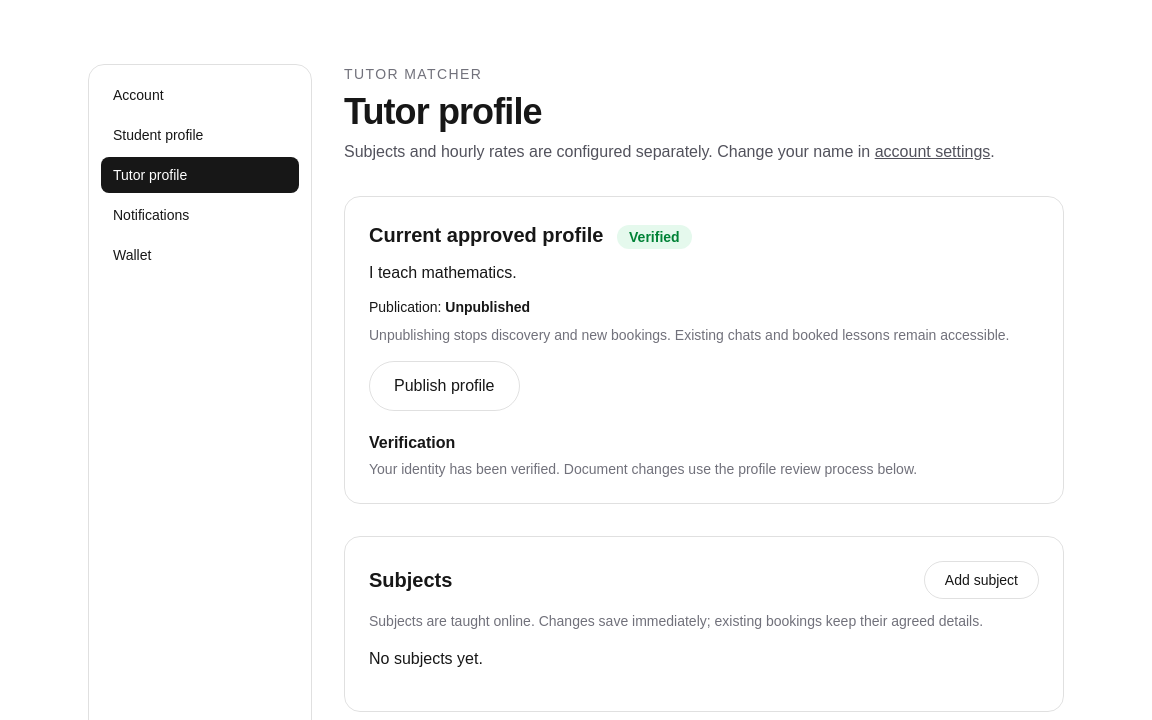
Test case: allows publishing independently of a pending review
Click the button "Publish profile". click: click(444, 386)
box: [369, 361, 520, 411]
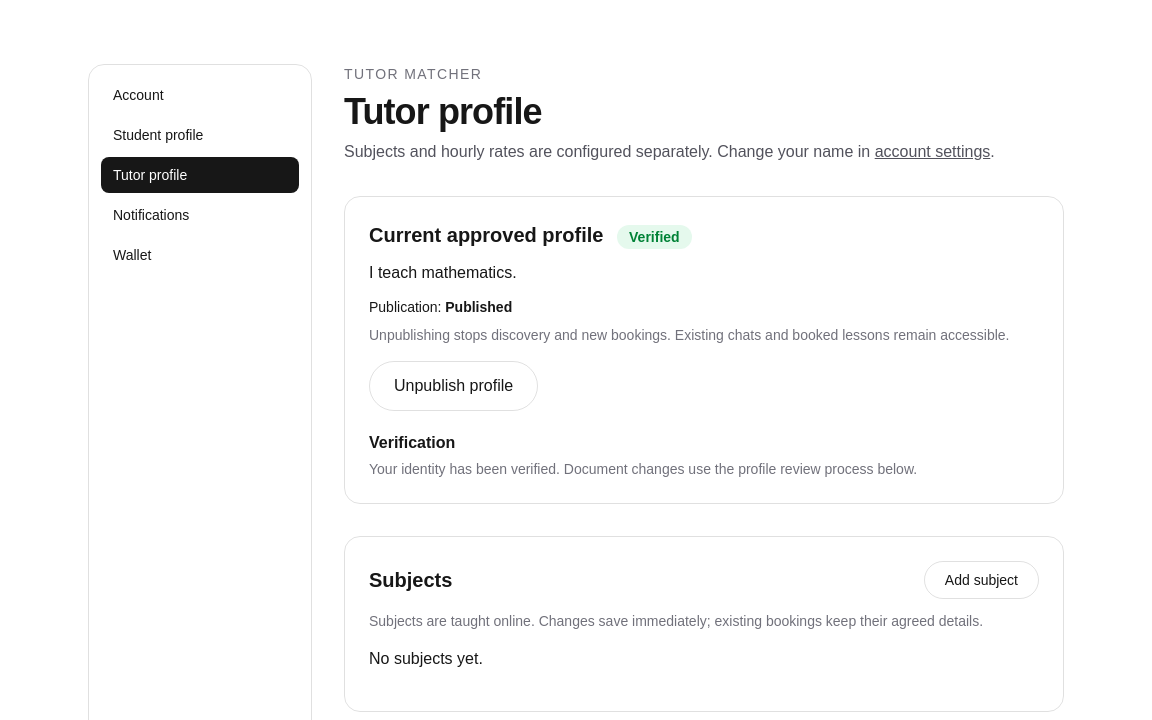
Expected: the button "Unpublish profile" is shown, [369, 361, 538, 411]
